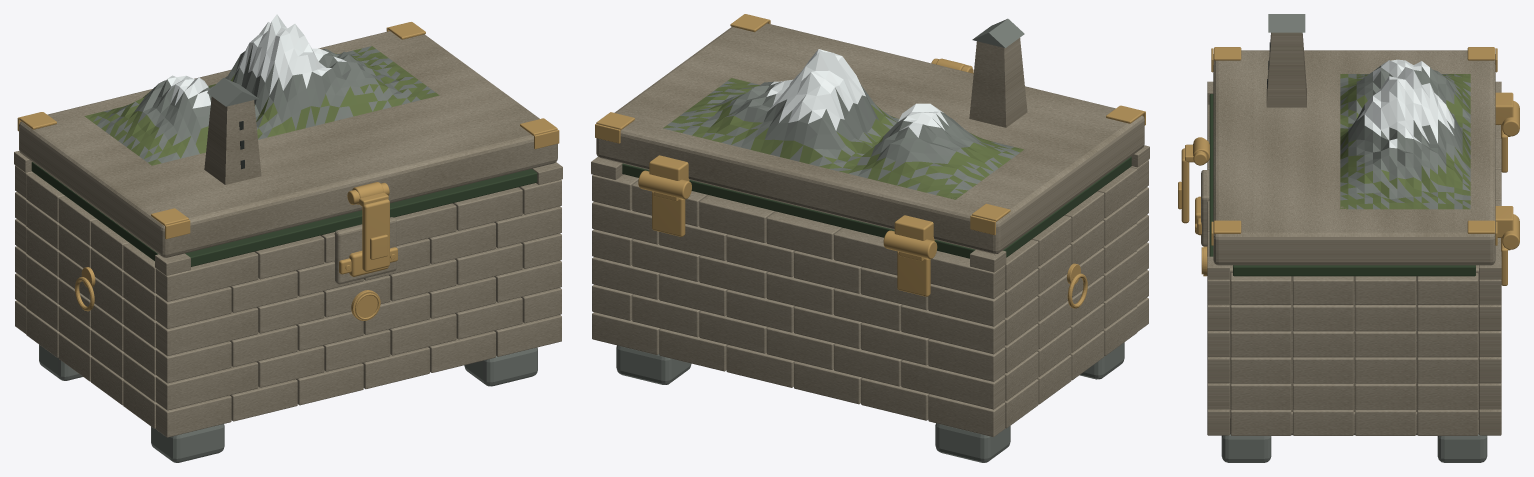
Rendered from georgia.glb.
3 views of the same model, side by side, from view 1: azimuth 30°, elevation 25°; view 2: azimuth 150°, elevation 25°; view 3: azimuth 270°, elevation 25° (orthographic). The views are drawn at different scales.
Visible parts, largest first — view 1: Lid / polished slab, Terrain / Svaneti snow ridge, Mineral seam / long, Tower / tapered stone, Masonry / course.060, Masonry / course.012, Masonry / course.036, Masonry / course.024, Masonry / course.048, Masonry / course, Masonry / course.064, Masonry / course.061 (+60 smaller); view 2: Lid / polished slab, Terrain / Svaneti snow ridge, Tower / tapered stone, Masonry / course.042, Masonry / course.018, Mineral seam / long.001, Masonry / course.068, Masonry / course.069, Masonry / course.066, Masonry / course.030, Masonry / course.006, Masonry / course.054 (+65 smaller); view 3: Lid / polished slab, Terrain / Svaneti snow ridge, Mineral seam / side.001, Tower / tapered stone, Masonry / side.044, Masonry / side.047, Masonry / side.045, Masonry / side.046, Masonry / side.004, Masonry / side.007, Masonry / side.023, Masonry / side.031 (+45 smaller).
Part boxes in pixels (<box>): Lid / polished slab: <box>19,31,557,257</box>; Terrain / Svaneti snow ridge: <box>84,14,439,165</box>; Mineral seam / long: <box>185,169,537,266</box>; Tower / tapered stone: <box>204,96,261,184</box>; Masonry / course.060: <box>156,252,258,301</box>; Masonry / course.012: <box>156,362,258,410</box>; Masonry / course.036: <box>156,307,258,355</box>; Masonry / course.024: <box>156,341,231,383</box>; Masonry / course.048: <box>156,287,231,328</box>; Masonry / course: <box>156,395,231,437</box>; Masonry / course.064: <box>453,187,522,230</box>; Masonry / course.061: <box>254,235,324,279</box>; Lid / polished slab: <box>596,23,1144,254</box>; Terrain / Svaneti snow ridge: <box>663,49,1023,199</box>; Tower / tapered stone: <box>969,38,1027,127</box>; Masonry / course.042: <box>901,304,1005,354</box>; Masonry / course.018: <box>901,360,1005,409</box>; Mineral seam / long.001: <box>622,163,975,258</box>; Masonry / course.068: <box>766,211,842,259</box>; Masonry / course.069: <box>699,195,775,242</box>; Masonry / course.066: <box>930,251,1005,298</box>; Masonry / course.030: <box>928,339,1005,381</box>; Masonry / course.006: <box>928,394,1005,436</box>; Masonry / course.054: <box>928,284,1005,326</box>; Lid / polished slab: <box>1213,50,1495,265</box>; Terrain / Svaneti snow ridge: <box>1340,59,1470,209</box>; Mineral seam / side.001: <box>1233,265,1475,276</box>; Tower / tapered stone: <box>1266,32,1306,107</box>; Masonry / side.044: <box>1230,273,1291,304</box>; Masonry / side.047: <box>1417,273,1478,304</box>; Masonry / side.045: <box>1293,276,1353,304</box>; Masonry / side.046: <box>1355,276,1415,304</box>; Masonry / side.004: <box>1230,409,1291,435</box>; Masonry / side.007: <box>1417,409,1478,435</box>; Masonry / side.023: <box>1417,356,1478,383</box>; Masonry / side.031: <box>1417,330,1478,357</box>.
Size of the model in its own units: 3.79 by 3 by 2.88.
Materials: 7 (1 with a texture image).
